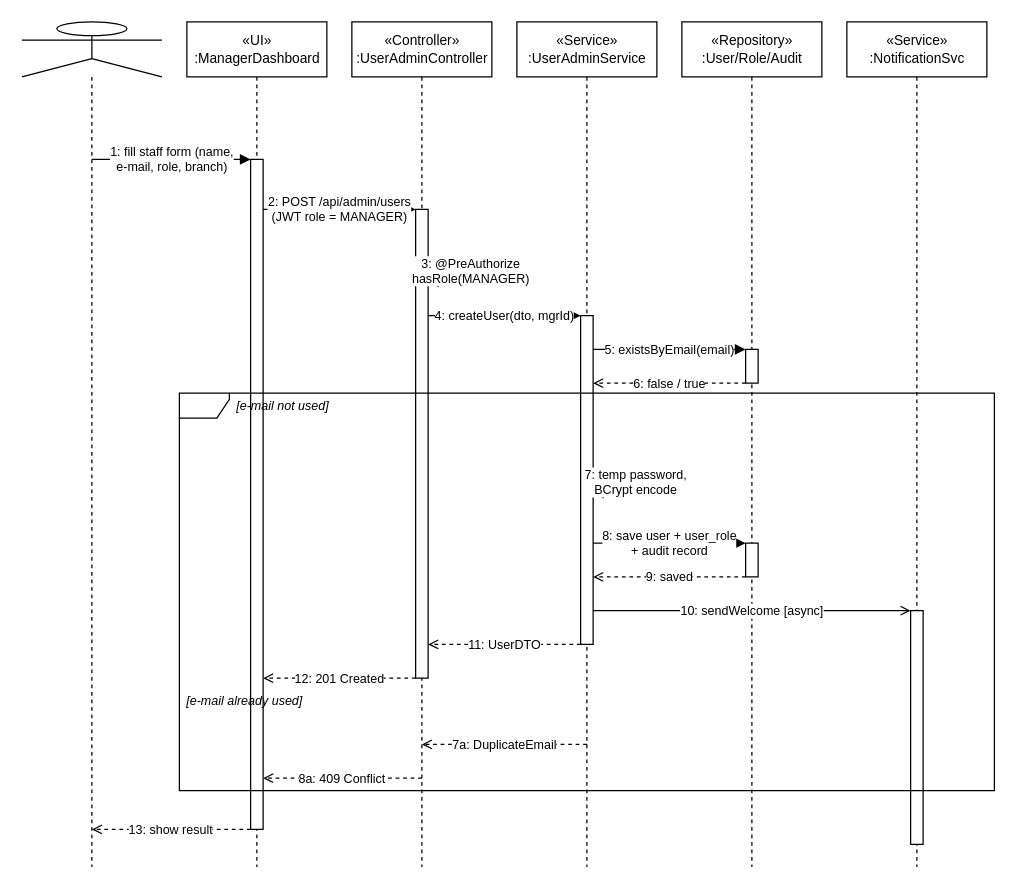
Some shapes in this 1016 by 889 pixel diagram are drawn without their labels. Here are the shapes that lost their labels. From the top down, the box of each, then its label:
(21, 21, 162, 867): Branch Manager
(178, 392, 994, 791): alt
